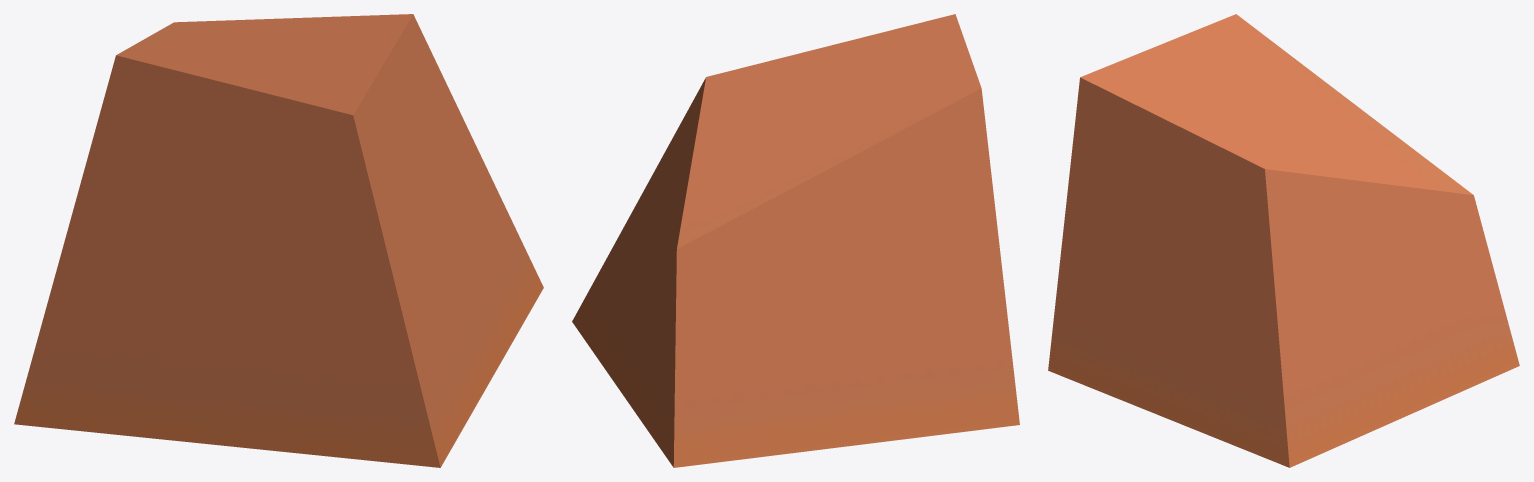
The model's file is Rock.glb.
3 views of the same model, side by side, from view 1: azimuth 30°, elevation 25°; view 2: azimuth 150°, elevation 25°; view 3: azimuth 270°, elevation 25° (orthographic). The views are drawn at different scales.
Visible parts, largest first — view 1: Cube.014; view 2: Cube.014; view 3: Cube.014.
Boxes of the visible parts, box(x1,y1,x2,y2) form: Cube.014: box(14, 14, 543, 467); Cube.014: box(572, 14, 1019, 467); Cube.014: box(1048, 14, 1519, 467).
Bounding box in the file's own units: 0.1736 × 0.1145 × 0.1736.
Materials: 1 (1 with a texture image).
